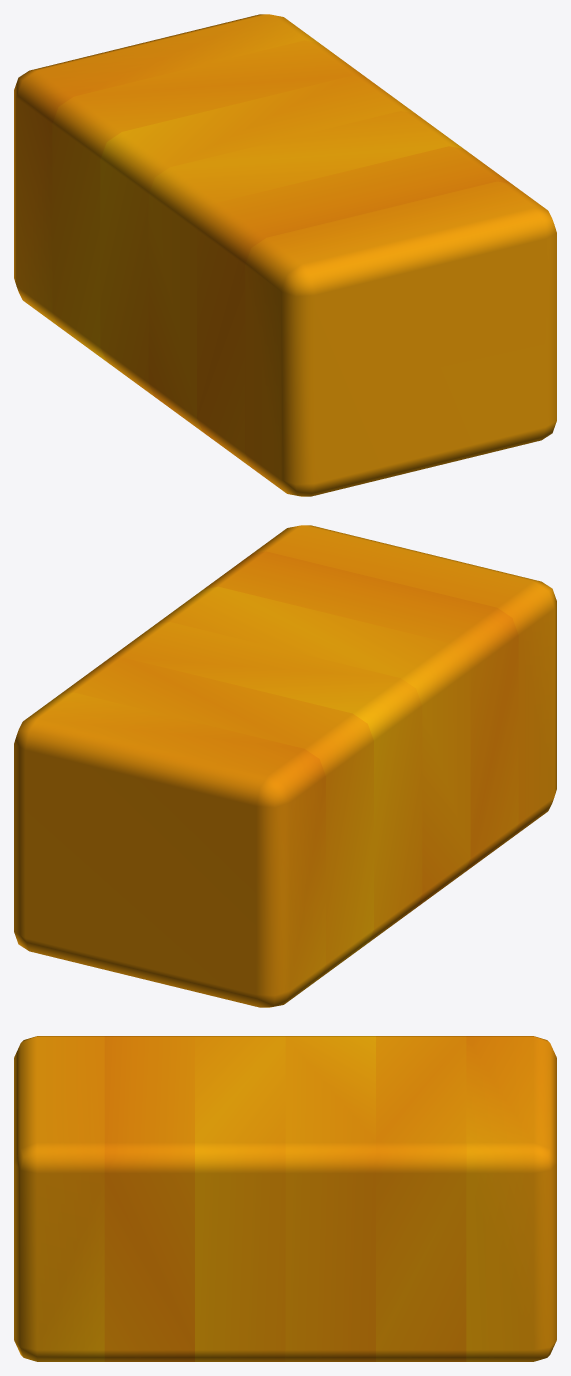
The model's file is Cheddar_Cheese.glb.
3 renders of one model, top to bottom at view 1: azimuth 30°, elevation 25°; view 2: azimuth 150°, elevation 25°; view 3: azimuth 270°, elevation 25°, orthographic. The views are drawn at different scales.
Visible parts, largest first — view 1: Cheddar_Cheese; view 2: Cheddar_Cheese; view 3: Cheddar_Cheese.
Boxes of the visible parts, x1,y1,x2,y2 form: Cheddar_Cheese: (14,14,556,496); Cheddar_Cheese: (14,525,556,1007); Cheddar_Cheese: (14,1036,556,1361).
Bounding box in the file's own units: 0.2443 × 0.1986 × 0.4472.
Materials: 1 (1 with a texture image).
